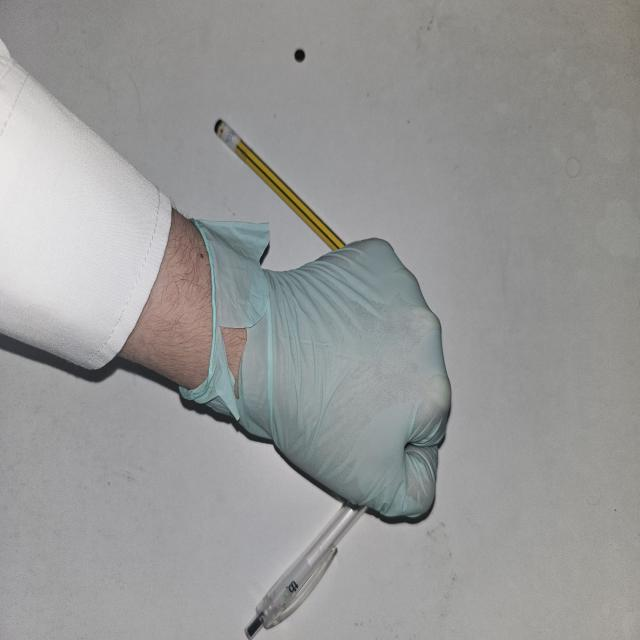gloves_damaged: (178, 218, 452, 521)
